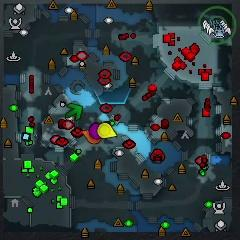p3: (90, 123, 102, 139)
p4: (97, 121, 119, 140)
p5: (82, 128, 103, 146)
x4: (64, 101, 84, 121)
